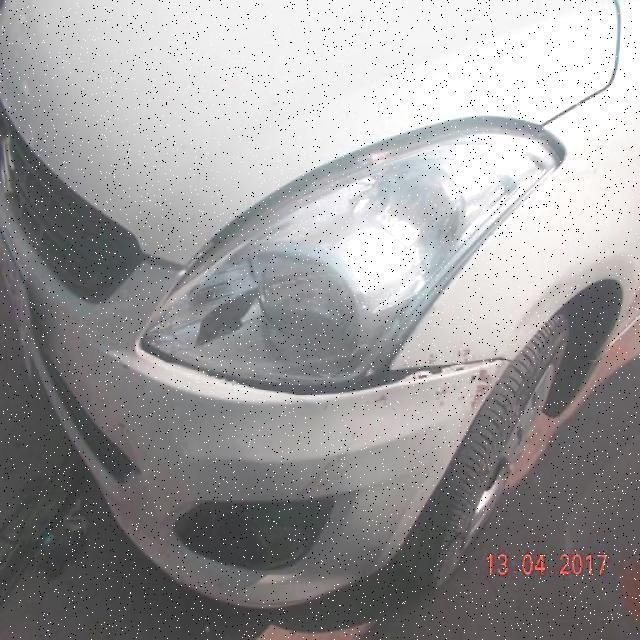car damage: (150, 345, 513, 412), (290, 422, 363, 498)
